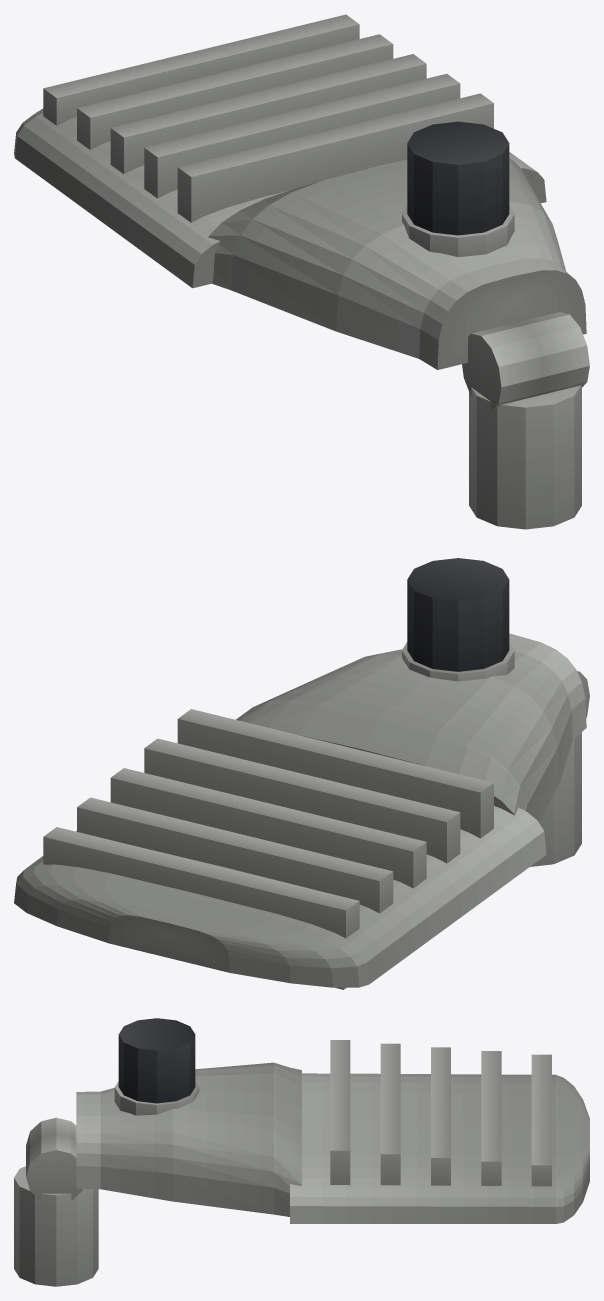
Rendered from streetlight_geealspt.obj.
The picture shows the model from 3 angles, top to bottom: view 1: azimuth 30°, elevation 25°; view 2: azimuth 150°, elevation 25°; view 3: azimuth 270°, elevation 25°; orthographic projection. The views are drawn at different scales.
Visible parts, largest first — view 1: fixture; view 2: fixture; view 3: fixture.
Boxes of the visible parts, x1,y1,x2,y2 form: fixture: (14, 14, 589, 529); fixture: (14, 558, 589, 989); fixture: (14, 1018, 589, 1286).
Size of the model in its own units: 0.475 by 0.4015 by 0.8935.
